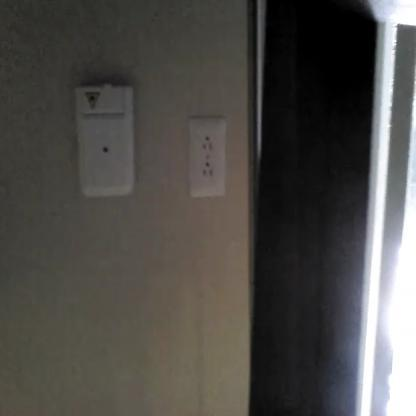OUTLET: (187, 117, 227, 198)
